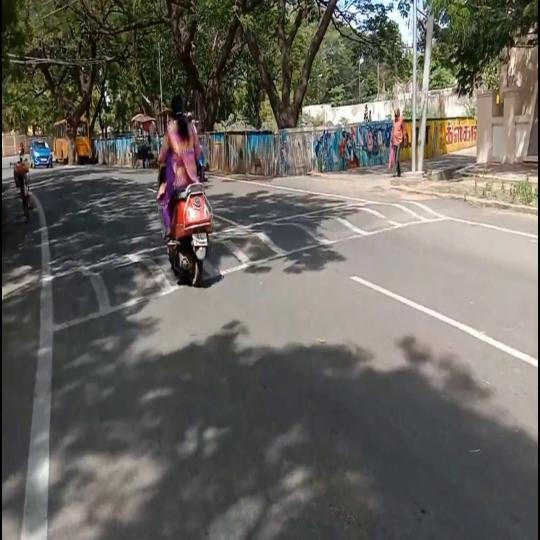Speed Bump: (208, 197, 454, 271), (2, 236, 166, 328)
